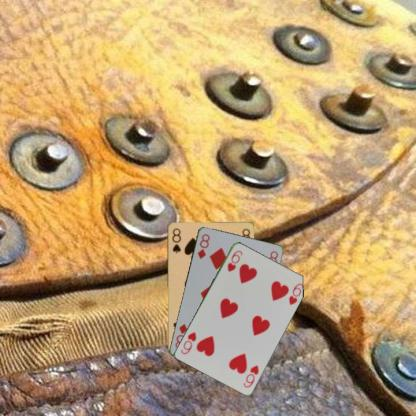6h: (241, 362, 260, 389), (225, 247, 244, 273)
8d: (195, 231, 211, 260)
8s: (169, 225, 182, 254)
